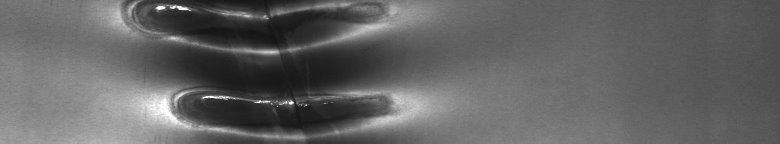ke: (117, 4, 400, 136)
